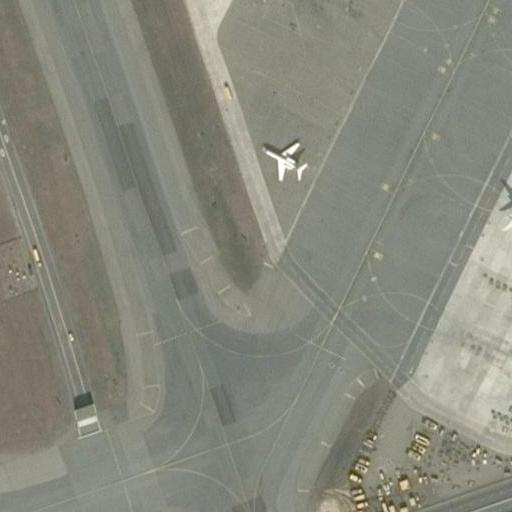Aircraft: (257, 134, 317, 187), (493, 170, 512, 278)
